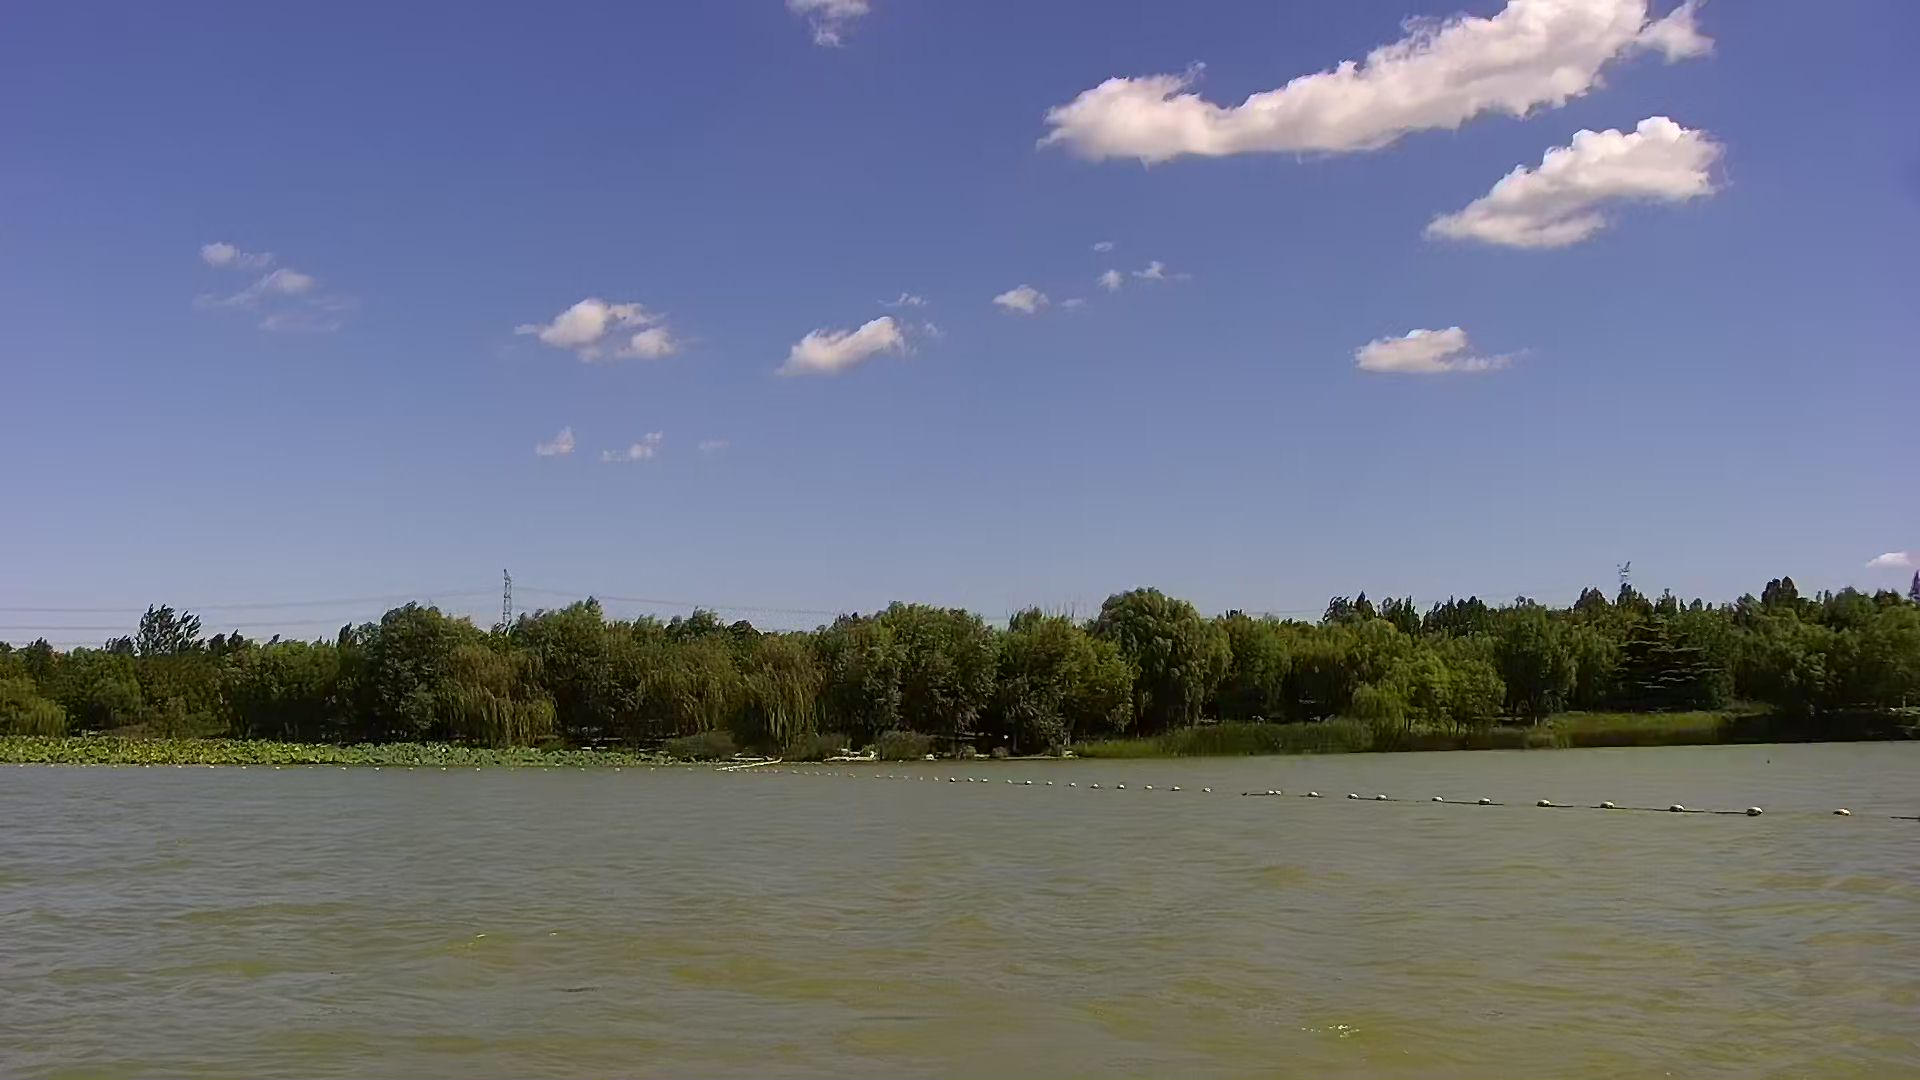ball: (1818, 785, 1869, 828), (1739, 790, 1779, 832), (1418, 778, 1451, 818), (1531, 785, 1563, 825), (1586, 790, 1629, 820), (1663, 793, 1693, 824), (1476, 785, 1497, 818)
